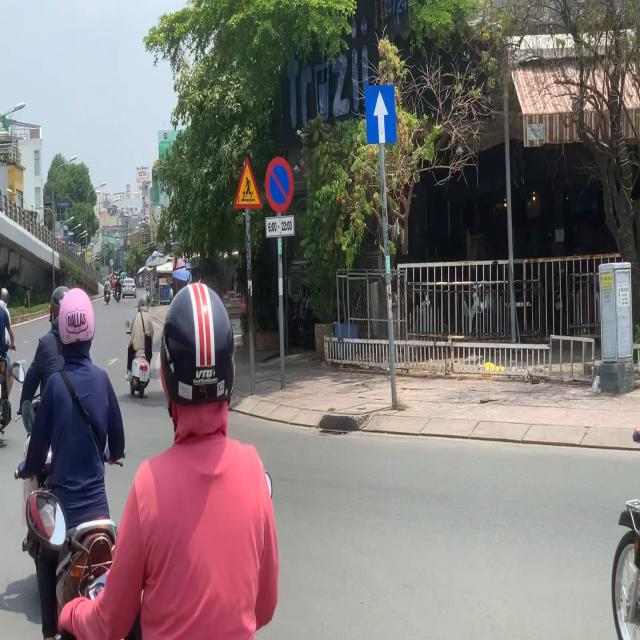Cam do: (265, 155, 294, 212)
Chi dan: (364, 84, 398, 146)
Nguoi di bo cat ngang: (231, 154, 264, 212)
